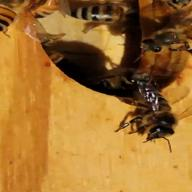Bee: (109, 70, 191, 153), (61, 0, 141, 32)
